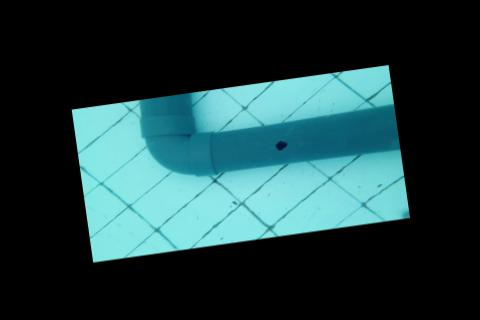kebocoran: (272, 136, 290, 151)
